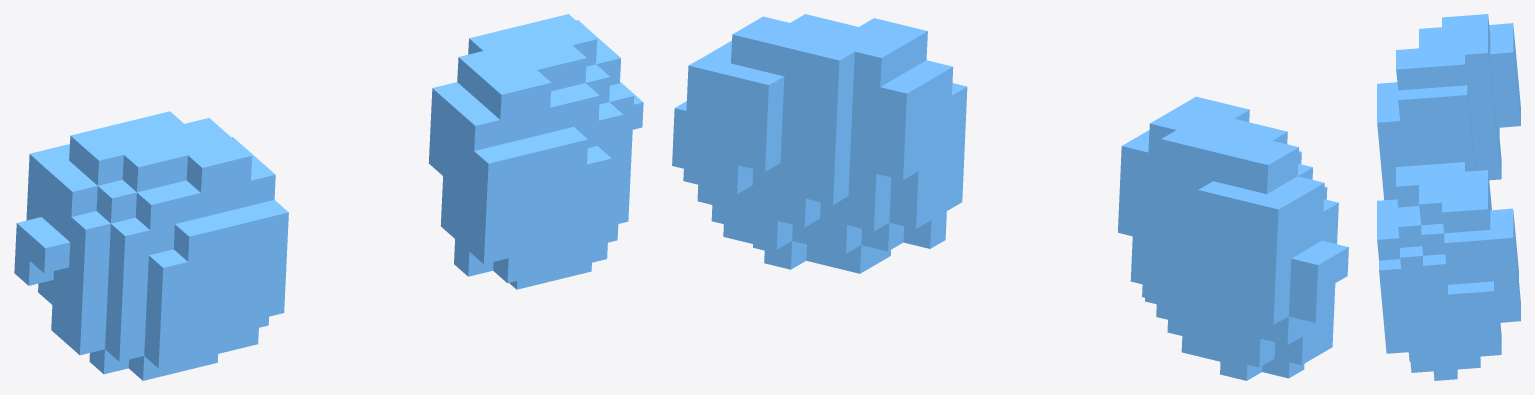
The model's file is blue.gltf.
3 views of the same model, side by side, from view 1: azimuth 30°, elevation 25°; view 2: azimuth 150°, elevation 25°; view 3: azimuth 270°, elevation 25° (orthographic). The views are drawn at different scales.
Visible parts, largest first — view 1: 眼睛.1; view 2: 眼睛.1; view 3: 眼睛.1.
Boxes of the visible parts, bbox=[...] form: 眼睛.1: bbox=[14, 14, 643, 380]; 眼睛.1: bbox=[672, 14, 1348, 380]; 眼睛.1: bbox=[1377, 14, 1520, 380].
Bounding box in the file's own units: 2.88 × 0.9961 × 0.7471.
